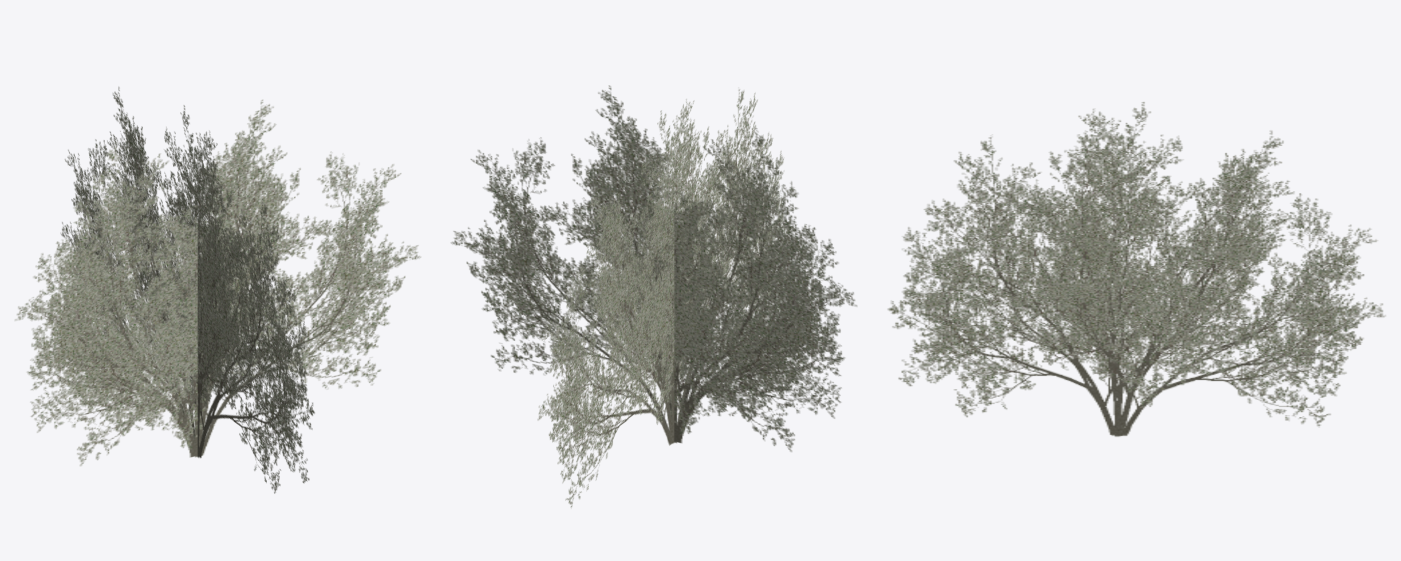
The model's file is AmelanchierCanadensis.glb.
3 renders of one model, left to right at view 1: azimuth 30°, elevation 25°; view 2: azimuth 150°, elevation 25°; view 3: azimuth 270°, elevation 25°, orthographic. The views are drawn at different scales.
Parts seen in each view (by area): view 1: mesh__mat_billboard_15; view 2: mesh__mat_billboard_15; view 3: mesh__mat_billboard_15.
Part boxes in pixels (<box>): mesh__mat_billboard_15: <box>14,87,420,493</box>; mesh__mat_billboard_15: <box>451,85,857,508</box>; mesh__mat_billboard_15: <box>887,102,1385,436</box>.
Size of the model in its own units: 5.88 by 4.77 by 6.39.
Materials: 1 (1 with a texture image).
